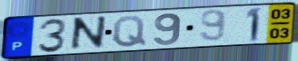1: (244, 6, 263, 43)
3: (37, 18, 68, 54)
9: (199, 9, 228, 45), (153, 12, 183, 46)
N: (68, 14, 109, 53)
Q: (112, 14, 149, 48)
